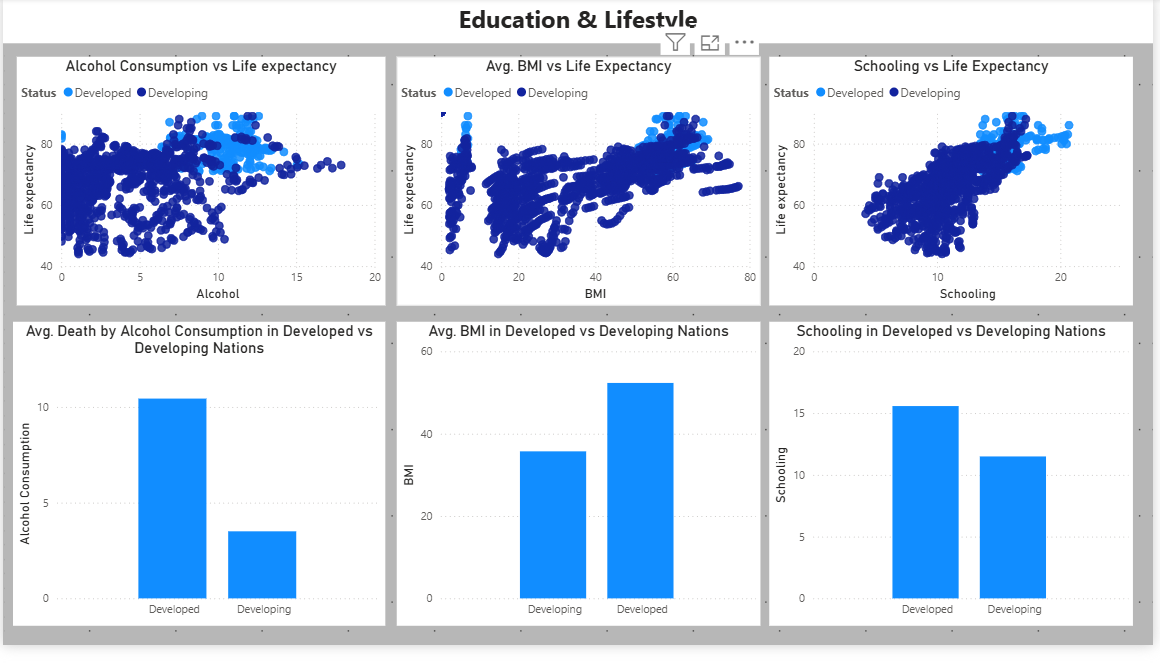

What the dashboard file says about the page in this screenshot:
{"tool":"powerbi","page":{"name":"Page 4","canvas":[1280,720],"ordinal":3},"visuals":[{"type":"textbox","box":[0,0,1280,50.1],"z":0},{"type":"scatterChart","title":"Schooling vs Life Expectancy","fields":{"X":["Life Expectancy Data.Schooling"],"Y":["Life Expectancy Data.Life expectancy "],"Series":["Life Expectancy Data.Status"]},"box":[852.9,65.4,404.9,276.9],"z":1000},{"type":"clusteredColumnChart","title":"Schooling in Developed vs Developing Nations","fields":{"Y":["Avg(Life Expectancy Data.Schooling)"],"Category":["Life Expectancy Data.Status"]},"box":[852.9,360.3,404.9,338.1],"z":2000},{"type":"scatterChart","title":"Alcohol Consumption vs Life expectancy","fields":{"Y":["Life Expectancy Data.Life expectancy "],"X":["Life Expectancy Data.Alcohol"],"Series":["Life Expectancy Data.Status"]},"box":[15.3,65.4,410.4,276.9],"z":3001},{"type":"clusteredColumnChart","title":"Avg. BMI in Developed vs Developing Nations","fields":{"Y":["Avg(Life Expectancy Data. BMI )"],"Category":["Life Expectancy Data.Status"]},"box":[438.3,360.3,404.9,338.1],"z":3002},{"type":"clusteredColumnChart","title":"Avg. Death by Alcohol Consumption in Developed vs Developing Nations","fields":{"Category":["Life Expectancy Data.Status"],"Y":["Avg(Life Expectancy Data.Alcohol)"]},"box":[11.1,360.3,414.6,338.1],"z":3003},{"type":"scatterChart","title":"Avg. BMI vs Life Expectancy","fields":{"Y":["Life Expectancy Data.Life expectancy "],"Series":["Life Expectancy Data.Status"],"X":["Life Expectancy Data. BMI "]},"box":[438.3,65.4,404.9,276.9],"z":3004}]}

Visuals, with their boxes in screenshot pixels (x1, y1, x2, y2), scaled from the page's 1280x720 canvas onto the 1160x663 screenshot:
textbox: [left=0, top=0, right=1159, bottom=46]
"Schooling vs Life Expectancy" scatterChart: [left=773, top=60, right=1140, bottom=315]
"Schooling in Developed vs Developing Nations" clusteredColumnChart: [left=773, top=332, right=1140, bottom=643]
"Alcohol Consumption vs Life expectancy" scatterChart: [left=14, top=60, right=386, bottom=315]
"Avg. BMI in Developed vs Developing Nations" clusteredColumnChart: [left=397, top=332, right=764, bottom=643]
"Avg. Death by Alcohol Consumption in Developed vs Developing Nations" clusteredColumnChart: [left=10, top=332, right=386, bottom=643]
"Avg. BMI vs Life Expectancy" scatterChart: [left=397, top=60, right=764, bottom=315]
